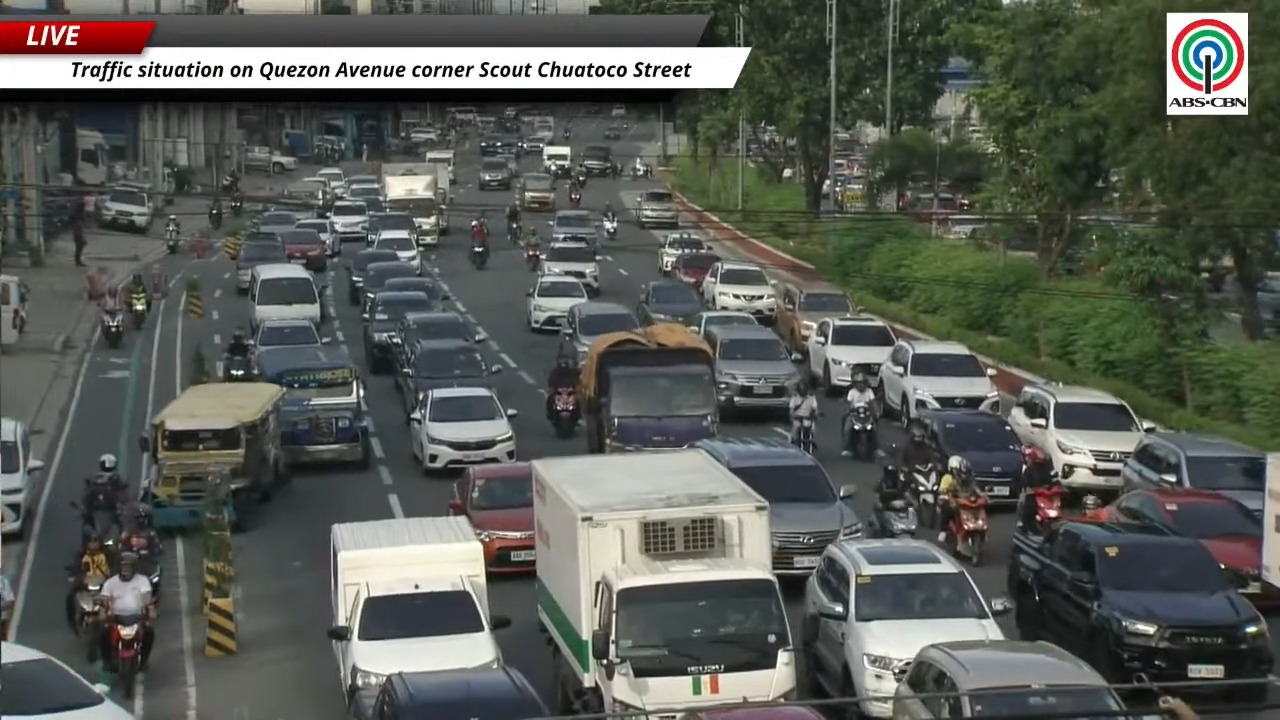car: (1007, 520, 1273, 701), (803, 539, 1010, 717), (694, 439, 862, 575), (885, 640, 1150, 719), (1107, 488, 1279, 606), (1008, 383, 1154, 493), (1121, 432, 1266, 516), (352, 665, 551, 719), (877, 338, 998, 424), (0, 642, 132, 719), (918, 409, 1023, 502), (449, 462, 535, 571), (409, 386, 516, 473), (703, 325, 799, 415), (396, 340, 501, 411), (803, 315, 896, 395), (362, 290, 435, 374), (392, 311, 486, 374), (776, 283, 855, 351), (0, 417, 43, 536), (700, 260, 777, 323), (561, 301, 638, 363), (527, 274, 588, 331), (539, 242, 600, 295), (362, 257, 418, 313), (235, 235, 287, 293), (636, 279, 701, 324), (345, 249, 397, 304), (251, 318, 326, 352), (98, 187, 154, 232), (658, 230, 710, 275), (383, 276, 450, 310), (679, 704, 825, 719), (372, 229, 421, 273), (280, 227, 327, 272), (281, 177, 334, 216), (670, 252, 721, 291), (688, 310, 758, 336), (365, 212, 417, 246), (295, 218, 340, 257), (549, 210, 597, 245), (329, 200, 368, 242), (635, 190, 678, 228), (243, 146, 297, 173), (517, 173, 555, 210), (1257, 271, 1279, 333), (478, 153, 512, 189), (250, 211, 300, 235), (579, 145, 614, 176), (316, 167, 346, 198), (498, 153, 521, 186), (243, 228, 282, 247), (346, 182, 382, 201), (407, 127, 441, 146), (499, 135, 522, 157), (479, 135, 502, 157), (346, 174, 380, 187), (362, 197, 386, 215), (522, 135, 545, 152), (603, 125, 624, 140), (610, 104, 626, 117)
motorcycle: (66, 565, 104, 660), (945, 492, 988, 566), (108, 615, 144, 699), (903, 463, 939, 526), (70, 501, 120, 545), (1024, 483, 1064, 535), (846, 404, 877, 461), (875, 499, 918, 537), (134, 548, 161, 603), (551, 388, 577, 438), (100, 308, 123, 348), (224, 354, 253, 381), (794, 417, 815, 454), (128, 292, 148, 330), (470, 245, 488, 270), (165, 225, 180, 253), (524, 246, 540, 271), (508, 222, 522, 246), (603, 218, 617, 240), (221, 175, 238, 193), (574, 169, 589, 188), (208, 209, 222, 229), (569, 190, 582, 209), (230, 198, 243, 216), (562, 127, 570, 140)
truck: (531, 449, 795, 715), (327, 516, 509, 700), (578, 323, 718, 453), (381, 162, 446, 243), (75, 127, 110, 186), (1260, 522, 1279, 588), (424, 150, 455, 183), (542, 145, 572, 178)
